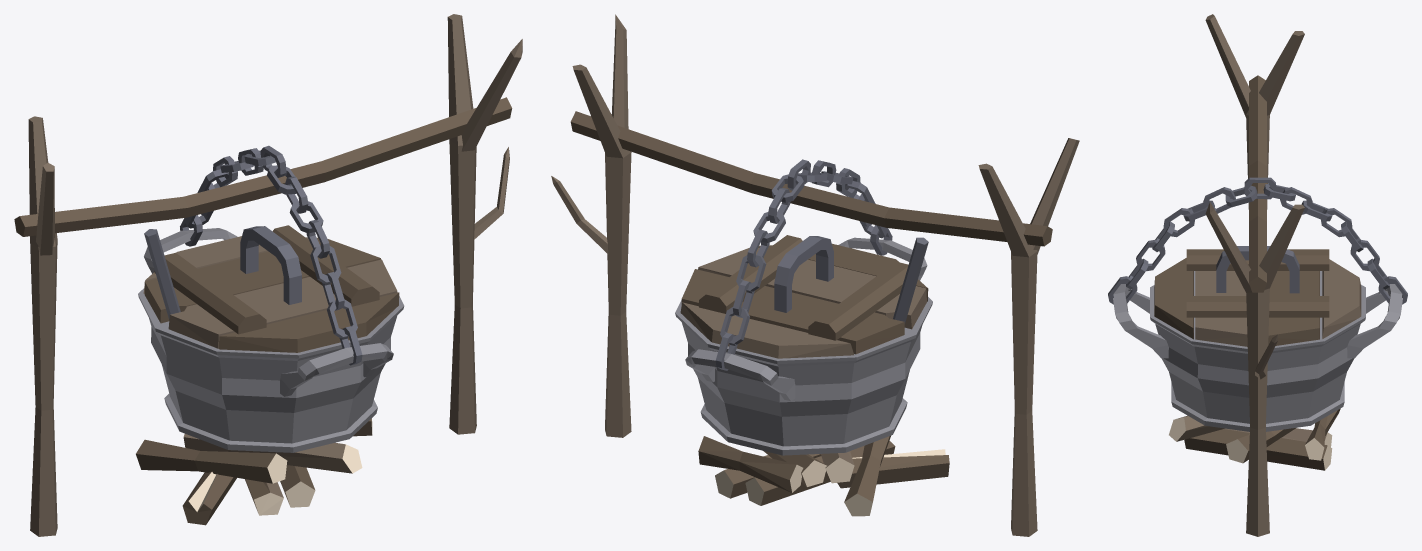
File: _pot_2.fbx
The picture shows the model from 3 angles, left to right: view 1: azimuth 30°, elevation 25°; view 2: azimuth 150°, elevation 25°; view 3: azimuth 270°, elevation 25°; orthographic projection. The views are drawn at different scales.
Visible parts, largest first — view 1: pot_2; view 2: pot_2; view 3: pot_2.
Boxes of the visible parts, x1,y1,x2,y2 form: pot_2: (14, 14, 522, 536); pot_2: (551, 14, 1079, 536); pot_2: (1108, 14, 1407, 536).
Size of the model in its own units: 257 by 197 by 156.
